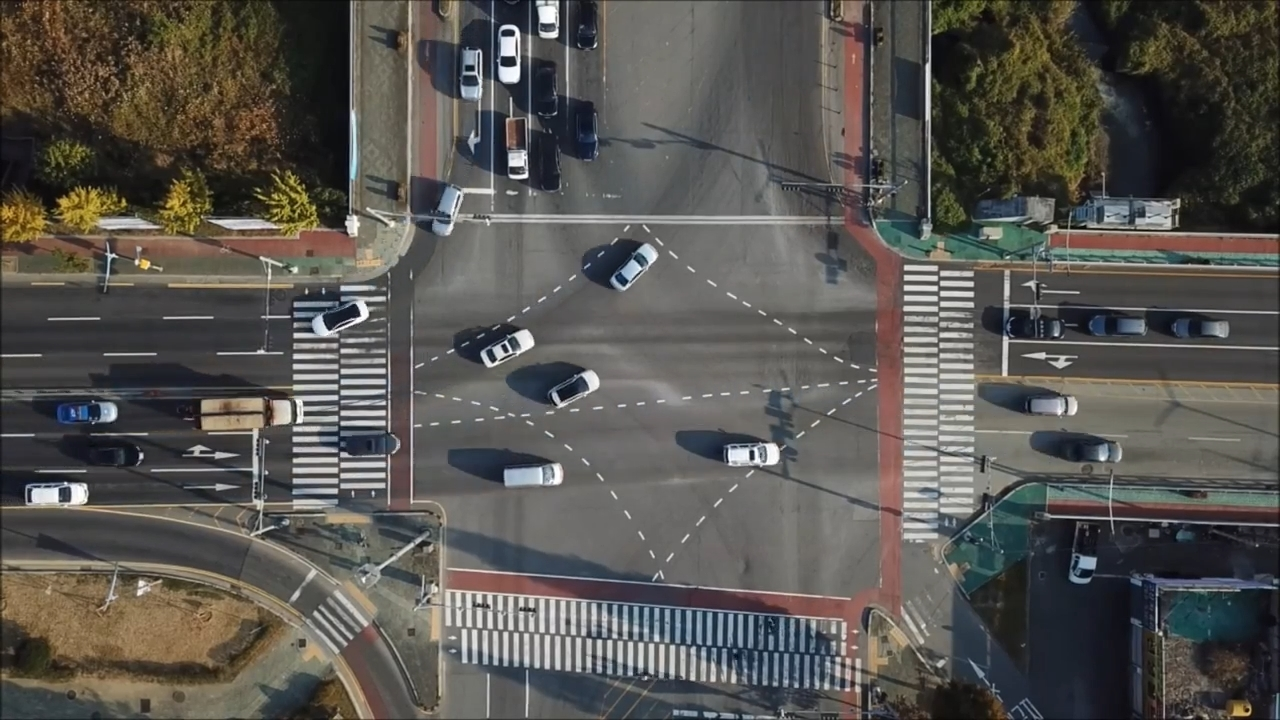car: (194, 393, 306, 429), (608, 241, 661, 291), (545, 366, 603, 410), (480, 325, 536, 367), (312, 299, 370, 339), (1067, 521, 1097, 586), (502, 461, 566, 490), (21, 483, 91, 508), (492, 21, 519, 85), (83, 441, 142, 469), (534, 124, 559, 189), (435, 180, 463, 238), (57, 402, 119, 426), (505, 117, 529, 179), (346, 432, 403, 458), (724, 442, 781, 468), (532, 60, 557, 119), (1091, 315, 1152, 339), (459, 44, 483, 102), (1025, 392, 1080, 417), (1072, 438, 1125, 463), (574, 102, 596, 162), (1169, 318, 1234, 338), (1006, 318, 1066, 339), (573, 1, 595, 50), (533, 1, 559, 36)
